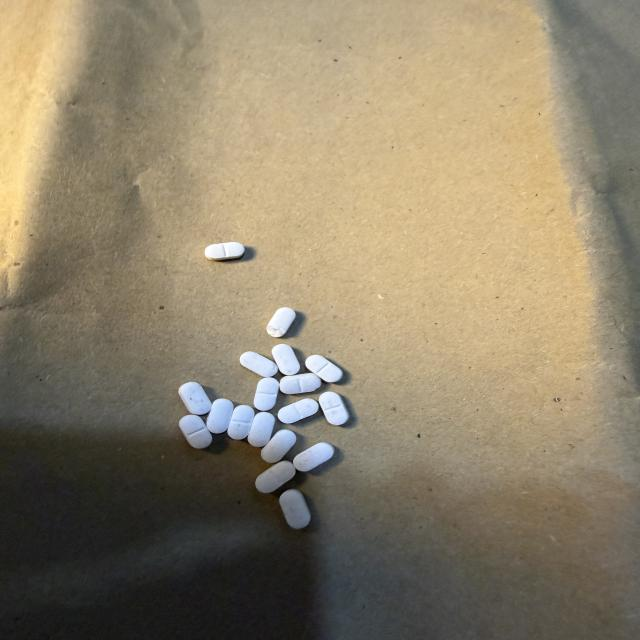pill: (256, 461, 295, 493), (280, 489, 310, 529), (261, 430, 296, 463), (294, 443, 334, 471), (179, 415, 212, 448), (179, 382, 211, 415), (278, 399, 318, 424), (306, 355, 342, 382), (319, 392, 348, 425), (279, 373, 322, 395), (240, 352, 277, 377), (248, 412, 275, 446), (228, 405, 254, 439), (207, 399, 233, 433), (272, 344, 299, 375), (267, 308, 295, 337), (254, 378, 278, 411), (205, 242, 244, 260)
